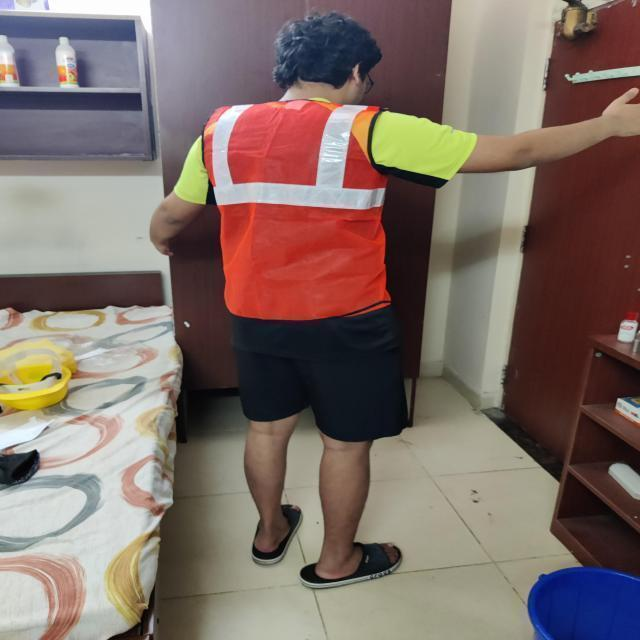no-helmet: (276, 10, 389, 96)
vest: (196, 102, 394, 322)
